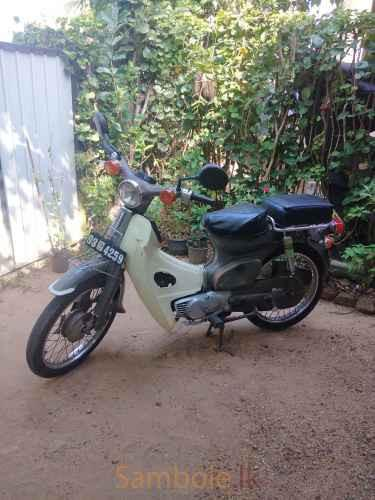motorbike: (25, 112, 343, 378)
